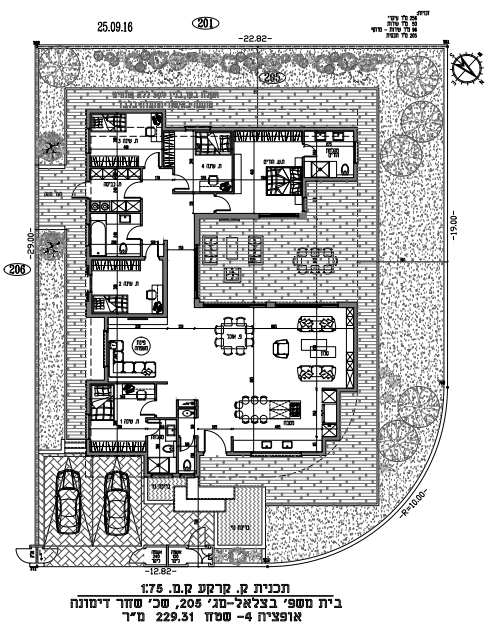door: (201, 426, 229, 460), (69, 181, 95, 201), (142, 148, 162, 172), (138, 400, 162, 419), (144, 240, 162, 263), (211, 194, 234, 211), (169, 173, 190, 190), (301, 141, 319, 160), (125, 224, 145, 241)
window: (272, 299, 342, 311), (202, 300, 270, 310), (248, 450, 304, 458), (351, 138, 363, 167), (82, 126, 93, 156)
